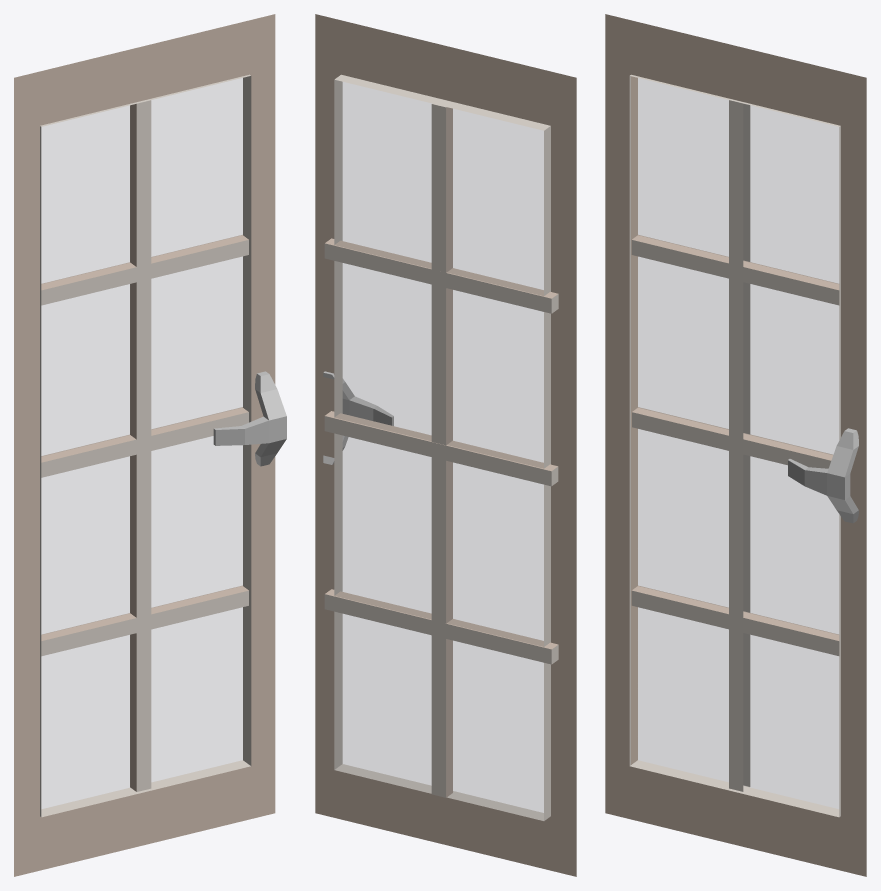
File: Atelier_modular_wall_rectangular_door_right.fbx
3 renders of one model, left to right at view 1: azimuth 30°, elevation 25°; view 2: azimuth 150°, elevation 25°; view 3: azimuth 330°, elevation 25°, orthographic.
Visible parts, largest first — view 1: Atelier_modular_wall_rectangular_door_right; view 2: Atelier_modular_wall_rectangular_door_right; view 3: Atelier_modular_wall_rectangular_door_right.
Boxes of the visible parts, x1,y1,x2,y2 form: Atelier_modular_wall_rectangular_door_right: (14, 14, 286, 876); Atelier_modular_wall_rectangular_door_right: (315, 14, 576, 876); Atelier_modular_wall_rectangular_door_right: (605, 14, 866, 876).
Bounding box in the file's own units: 74.88 × 219 × 11.96.
4 materials, 3 textured.
